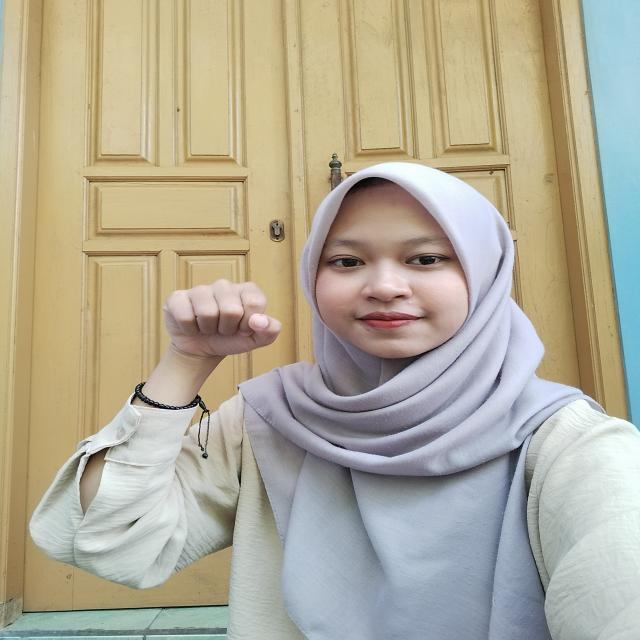baik: (128, 277, 292, 429)
